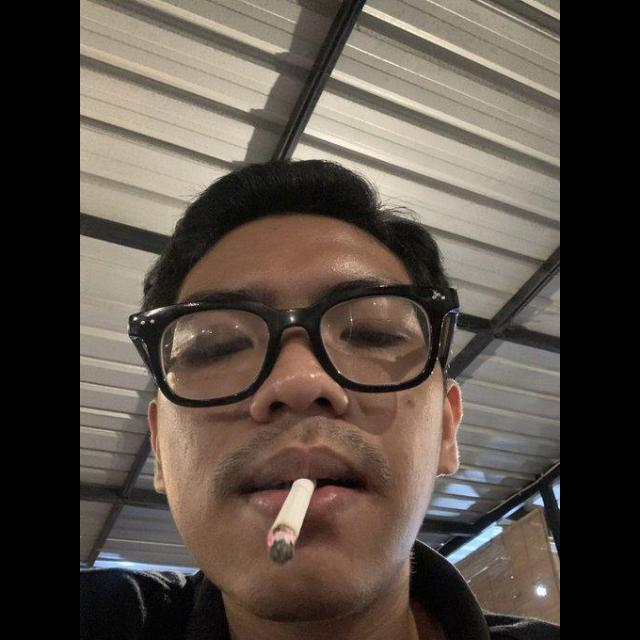rokok: (264, 474, 314, 564)
